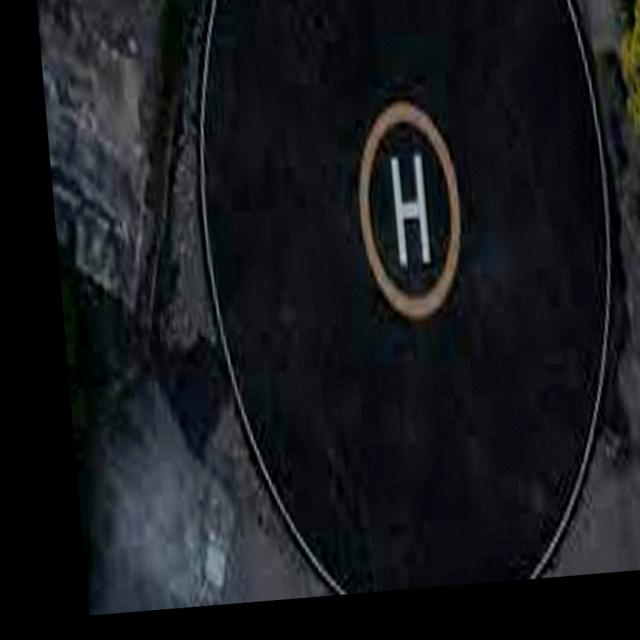helipad: (351, 93, 468, 322)
